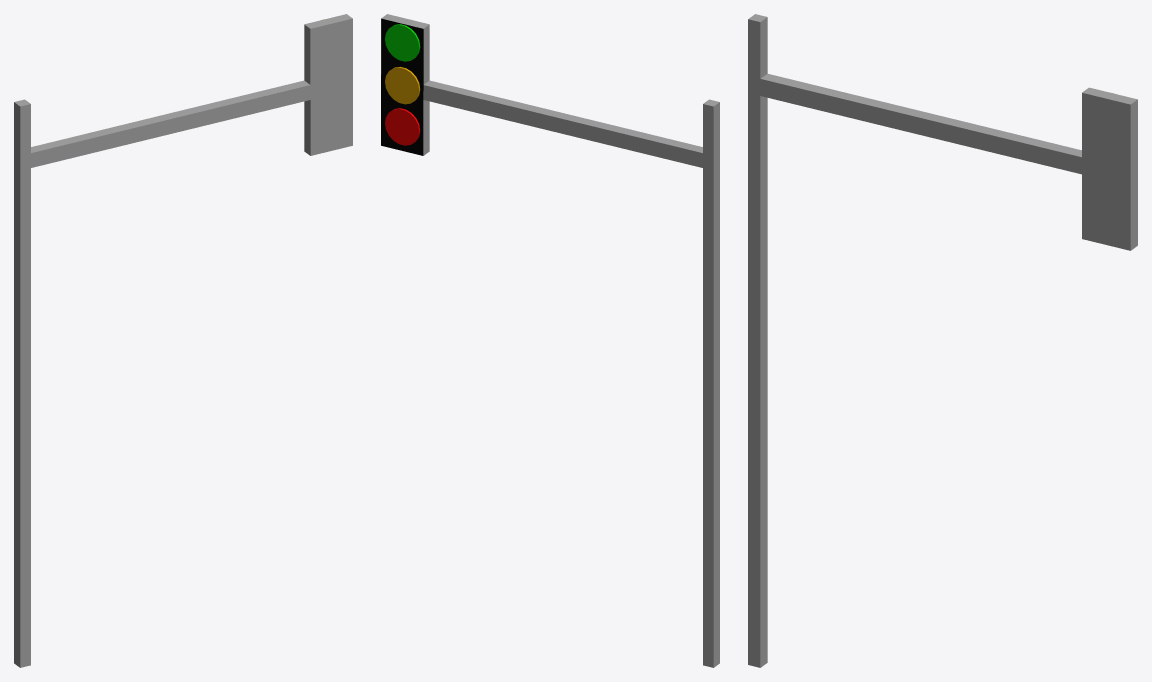
File: TrafficLight1.FBX
The picture shows the model from 3 angles, left to right: view 1: azimuth 30°, elevation 25°; view 2: azimuth 150°, elevation 25°; view 3: azimuth 330°, elevation 25°; orthographic projection. The views are drawn at different scales.
Visible parts, largest first — view 1: Box001; view 2: Box001, Cylinder002, Cylinder001, Cylinder003; view 3: Box001.
Boxes of the visible parts, x1,y1,x2,y2 form: Box001: [14, 14, 352, 667]; Box001: [381, 14, 719, 667]; Cylinder002: [385, 24, 420, 61]; Cylinder001: [385, 108, 420, 145]; Cylinder003: [385, 67, 420, 104]; Box001: [748, 14, 1137, 667].
Size of the model in its own units: 155 by 253 by 5.86.
